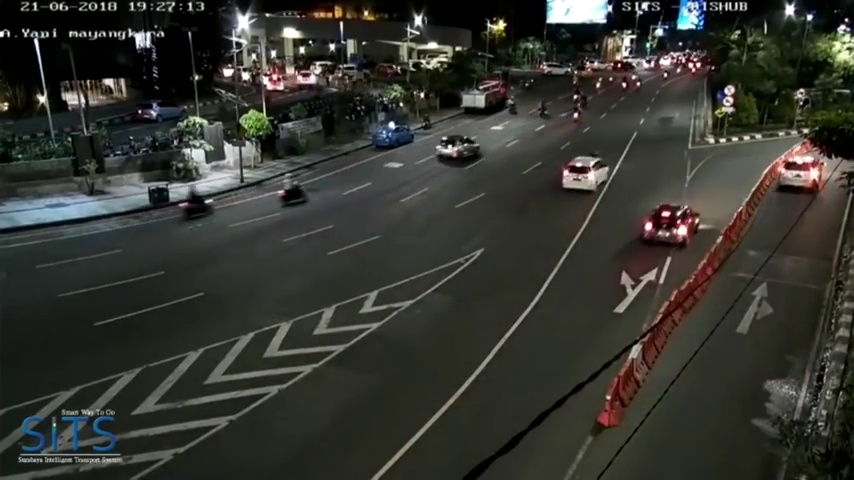car: (648, 200, 698, 249), (562, 152, 609, 193), (778, 154, 823, 191), (459, 82, 507, 115), (139, 98, 186, 125), (437, 135, 480, 163), (373, 122, 414, 148)
motorbike: (181, 187, 214, 222), (278, 171, 309, 205), (505, 96, 517, 116), (537, 98, 548, 115), (421, 114, 431, 129), (571, 105, 580, 120)
